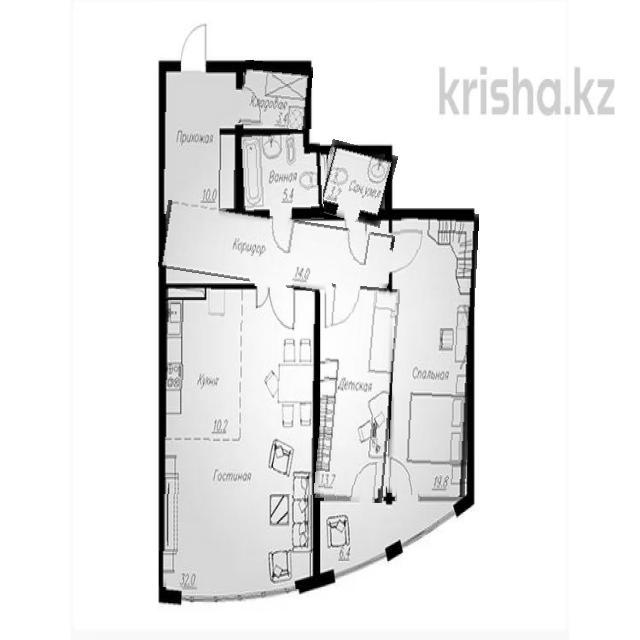bathroom: (239, 130, 323, 222), (318, 143, 394, 225)
hallway: (160, 209, 394, 295), (161, 67, 240, 215)
living_room: (390, 212, 476, 496), (318, 285, 396, 502)
other: (239, 61, 312, 129)
studio: (160, 286, 315, 588)
